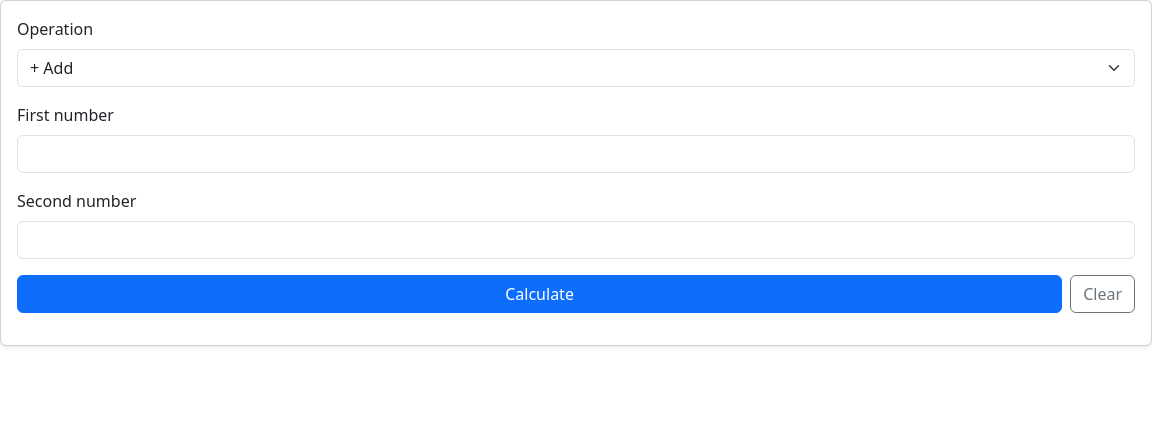
Test: Calculator › shows a generic message for unexpected failures
Type "1" into the field labelled "First number" at (576, 154), box [17, 135, 1135, 173]
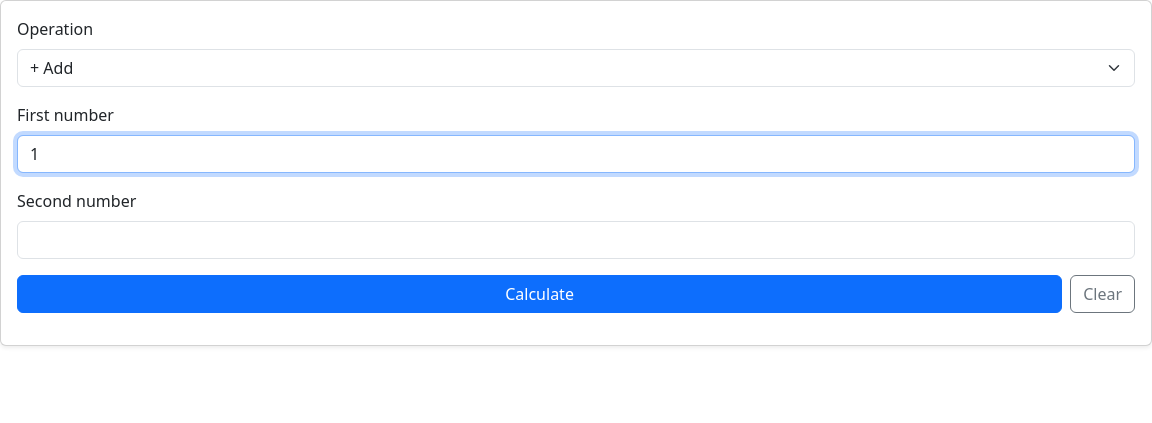
Type "1" into the field labelled "Second number" at (576, 240), box [17, 221, 1135, 259]
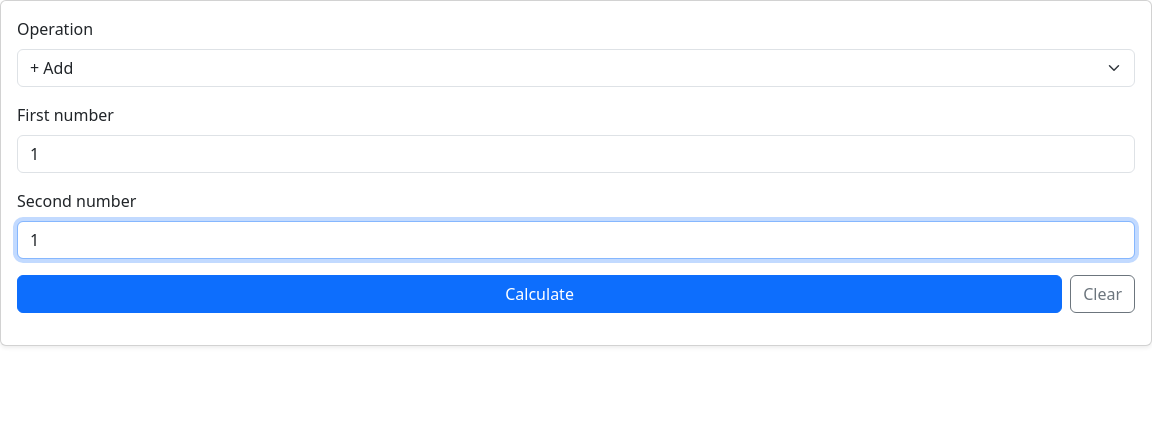
Click the button "Calculate" at (540, 294), box [17, 275, 1062, 313]
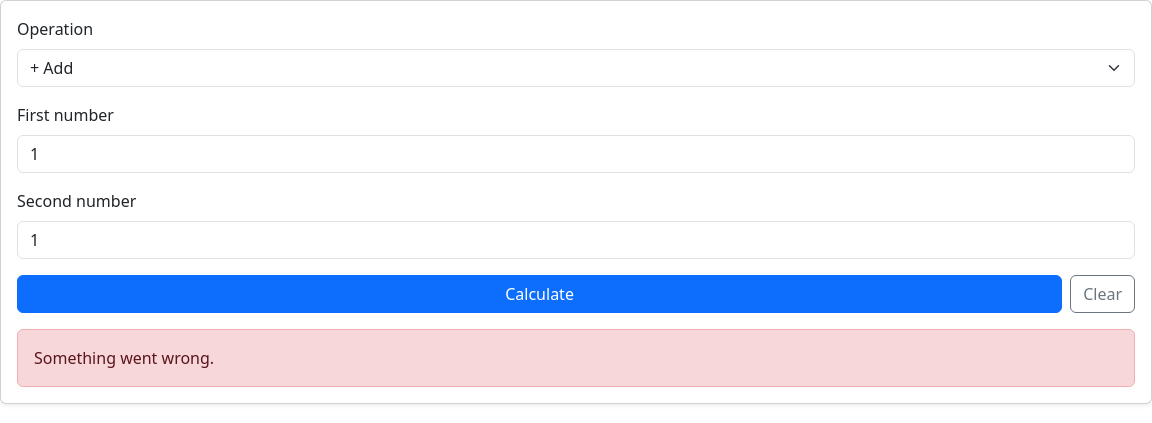
Check: the message reads "Something went wrong.", box [34, 347, 214, 369]
